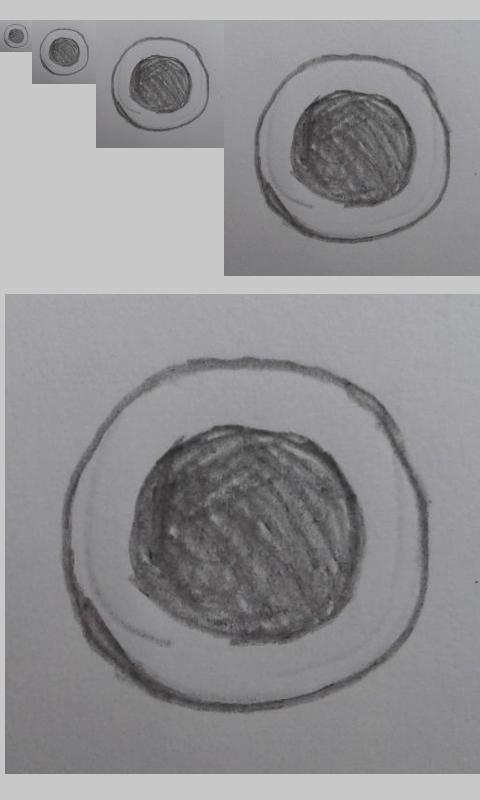radio_button: (58, 352, 434, 716), (252, 52, 452, 245), (110, 36, 212, 133), (38, 27, 90, 77), (3, 23, 29, 49)
